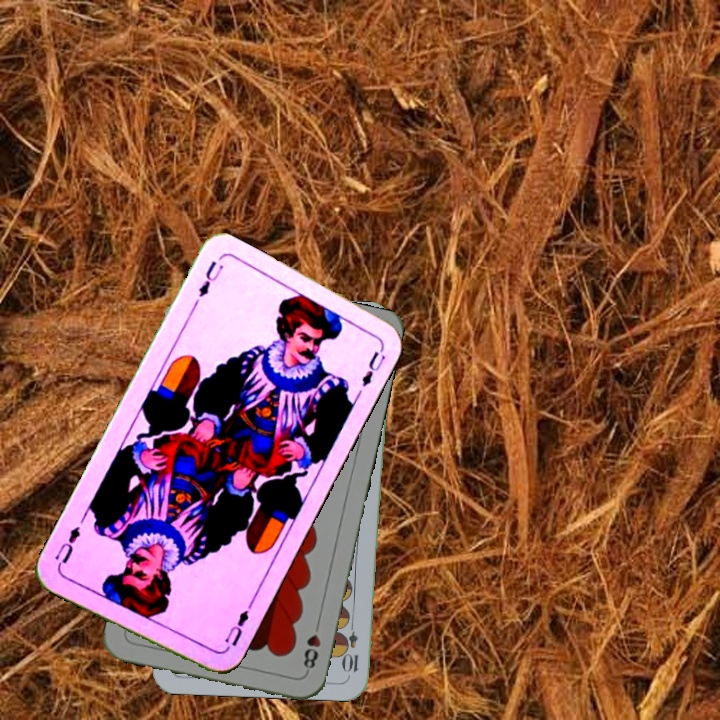E10: (342, 616, 361, 675)
EU: (220, 600, 255, 654), (194, 256, 226, 300)
H8: (299, 617, 323, 675)
